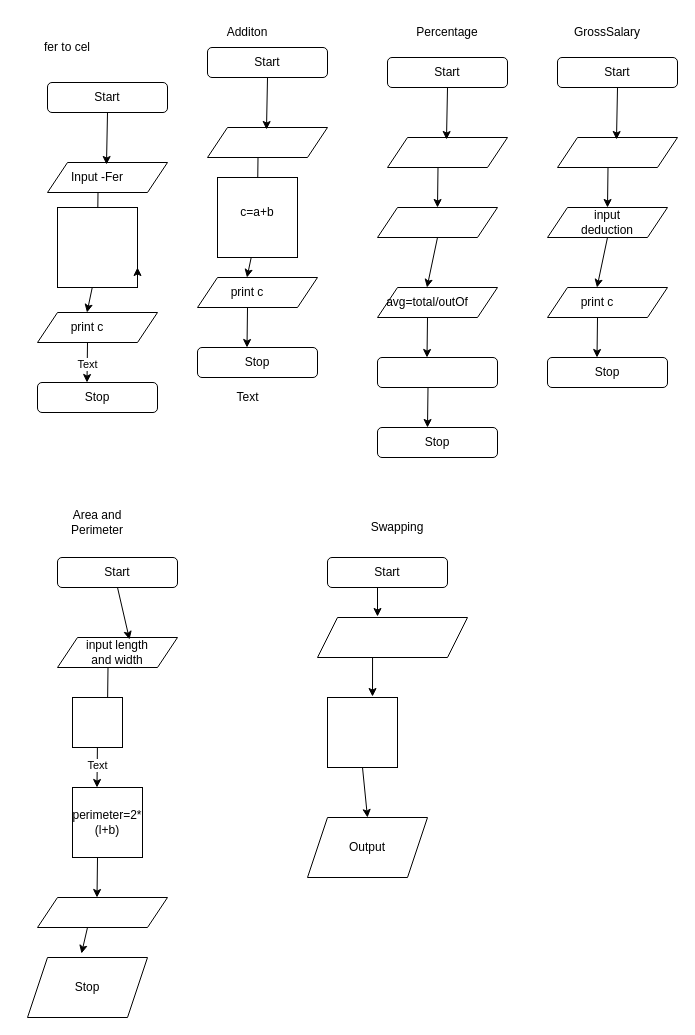
Some shapes in this 695 by 1035 pixel diagram are drawn without their labels. Here are the shapes that lost their labels. From the top down, the centre of each, then its label:
point (267, 142): input a, b
point (447, 152): input all marks
point (617, 152): input salary
point (437, 222): total=m1+m2..
point (97, 247): c=5/9*(f-32)
point (437, 372): per=avg*100
point (392, 637): Input a and b values
point (97, 722): area=l*b
point (362, 732): temp=a a=b b=temp
point (102, 912): Print area + " "+peri
